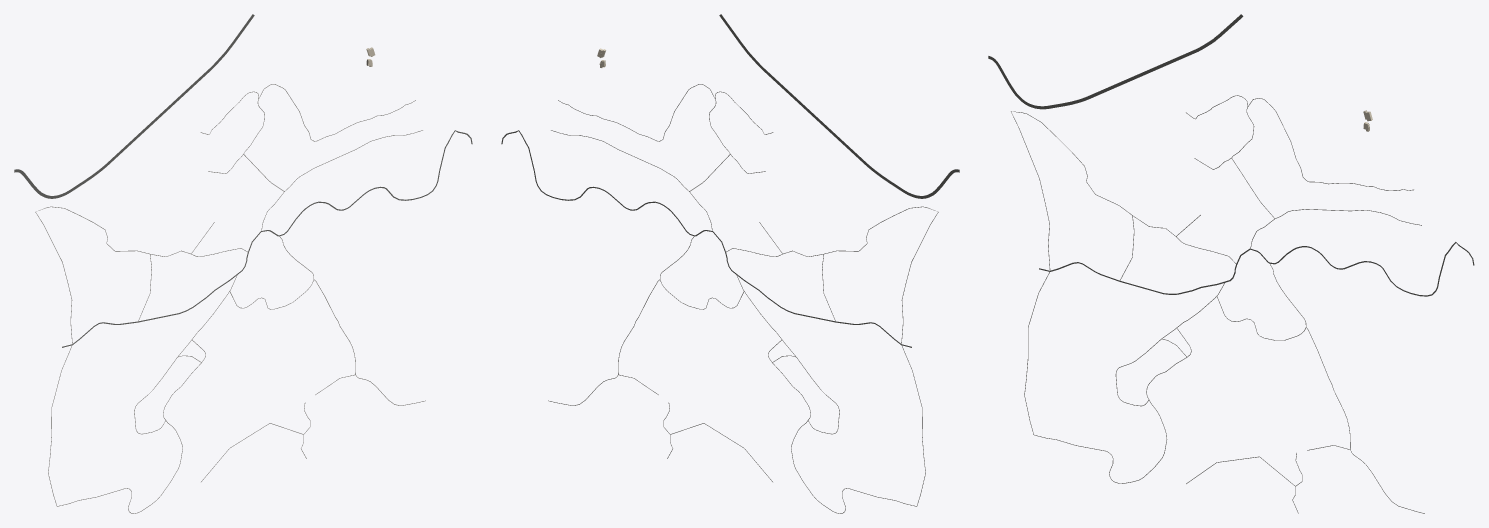
File: historic-palestine-07_24_3491_3183.glb
3 renders of one model, left to right at view 1: azimuth 30°, elevation 25°; view 2: azimuth 150°, elevation 25°; view 3: azimuth 330°, elevation 25°, orthographic. The views are drawn at different scales.
Parts seen in each view (by area): view 1: Road תמר, Road .008; view 2: Road תמר, Road .008; view 3: Road תמר, Road .008.
Boxes of the visible parts, left/top/right/bottom form: Road תמר: left=14, top=14, right=254, bottom=198; Road .008: left=62, top=130, right=472, bottom=347; Road תמר: left=719, top=14, right=959, bottom=198; Road .008: left=501, top=130, right=911, bottom=347; Road תמר: left=988, top=14, right=1243, bottom=109; Road .008: left=1039, top=242, right=1474, bottom=296.
Size of the model in its own units: 1341 by 1317 by 8.7.
